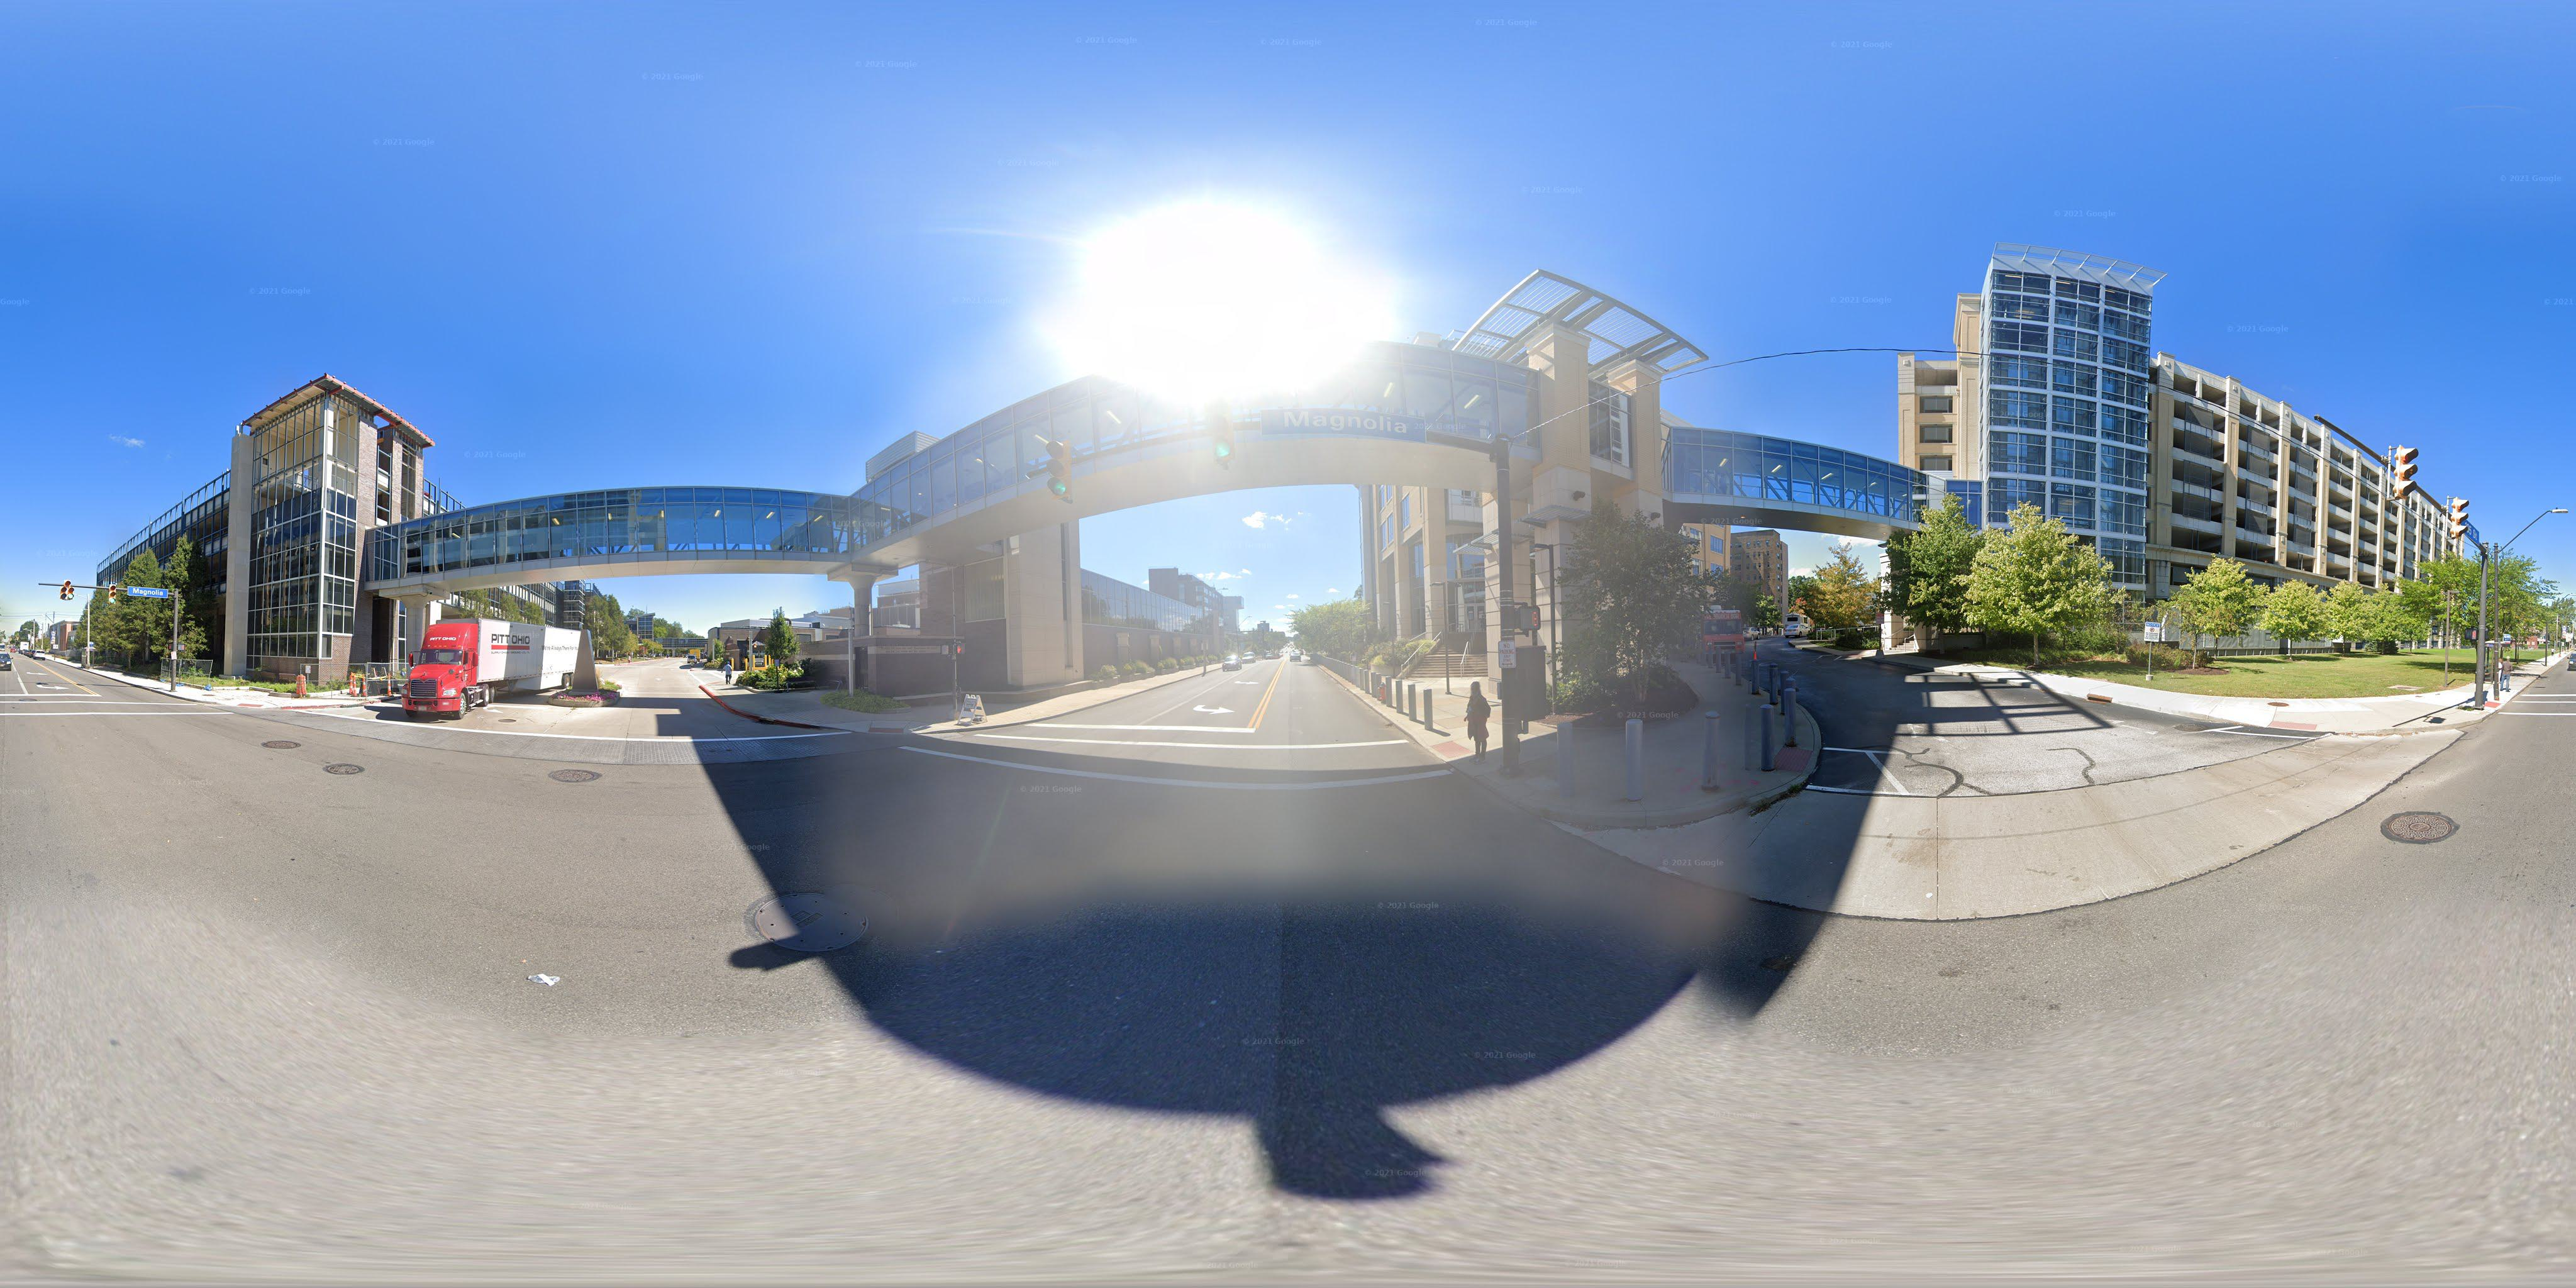Blocked Ramp: (1759, 720, 1822, 787)
Curb Ramp: (1423, 729, 1482, 774), (2264, 713, 2328, 741), (848, 721, 920, 743), (218, 695, 276, 713), (2481, 697, 2507, 715)
